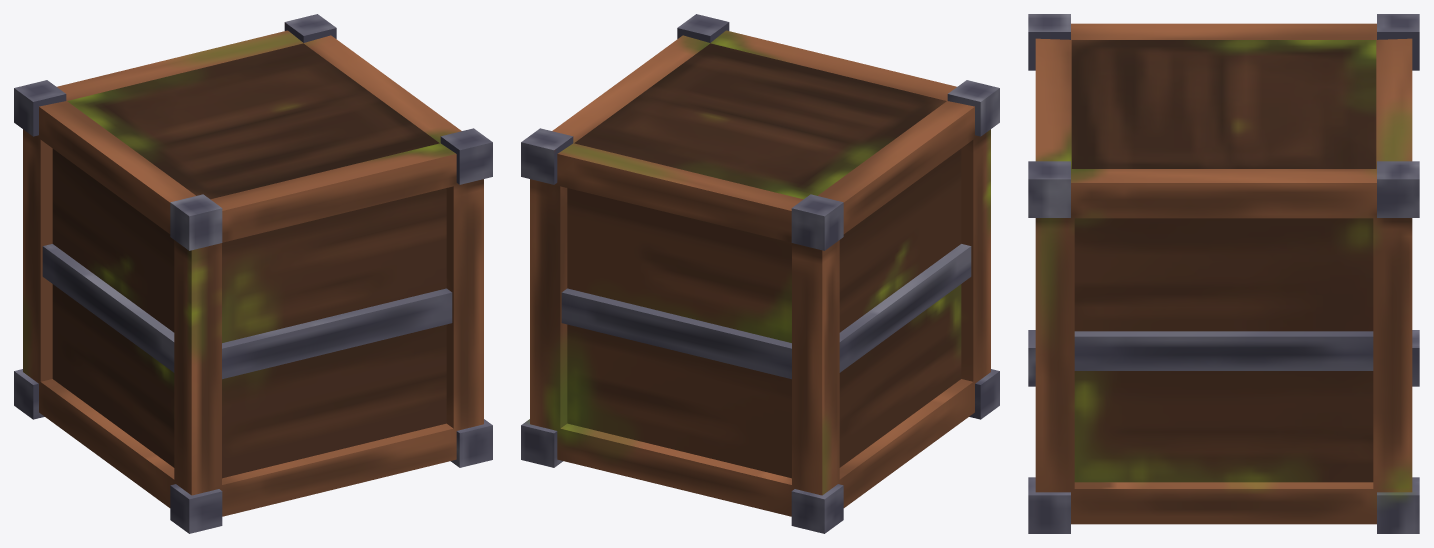
Rendered from CrateClose.fbx.
3 views of the same model, side by side, from view 1: azimuth 30°, elevation 25°; view 2: azimuth 150°, elevation 25°; view 3: azimuth 270°, elevation 25° (orthographic). The views are drawn at different scales.
Visible parts, largest first — view 1: CrateClose; view 2: CrateClose; view 3: CrateClose.
Part boxes in pixels (bbox=[...]): CrateClose: bbox=[14, 14, 492, 533]; CrateClose: bbox=[521, 14, 999, 533]; CrateClose: bbox=[1028, 14, 1419, 533].
Bounding box in the file's own units: 208 × 208 × 208.
